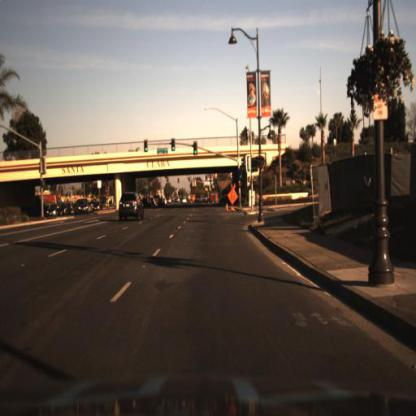car: (116, 190, 144, 226), (74, 198, 95, 219), (45, 203, 63, 224), (44, 203, 61, 220), (79, 196, 91, 217), (93, 199, 103, 215)
trafficLight-Green: (236, 169, 245, 190), (144, 134, 152, 156), (193, 140, 201, 160), (170, 142, 177, 160), (143, 141, 150, 157), (193, 141, 200, 157), (171, 138, 176, 156)
